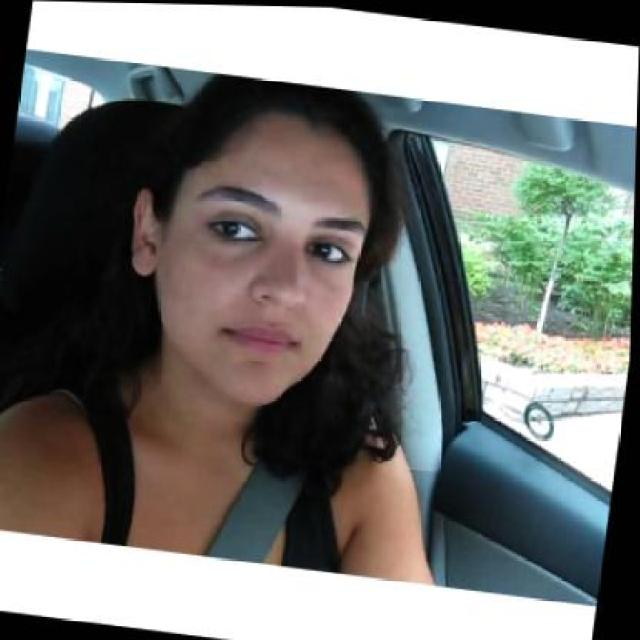attentif: (109, 64, 389, 413)
